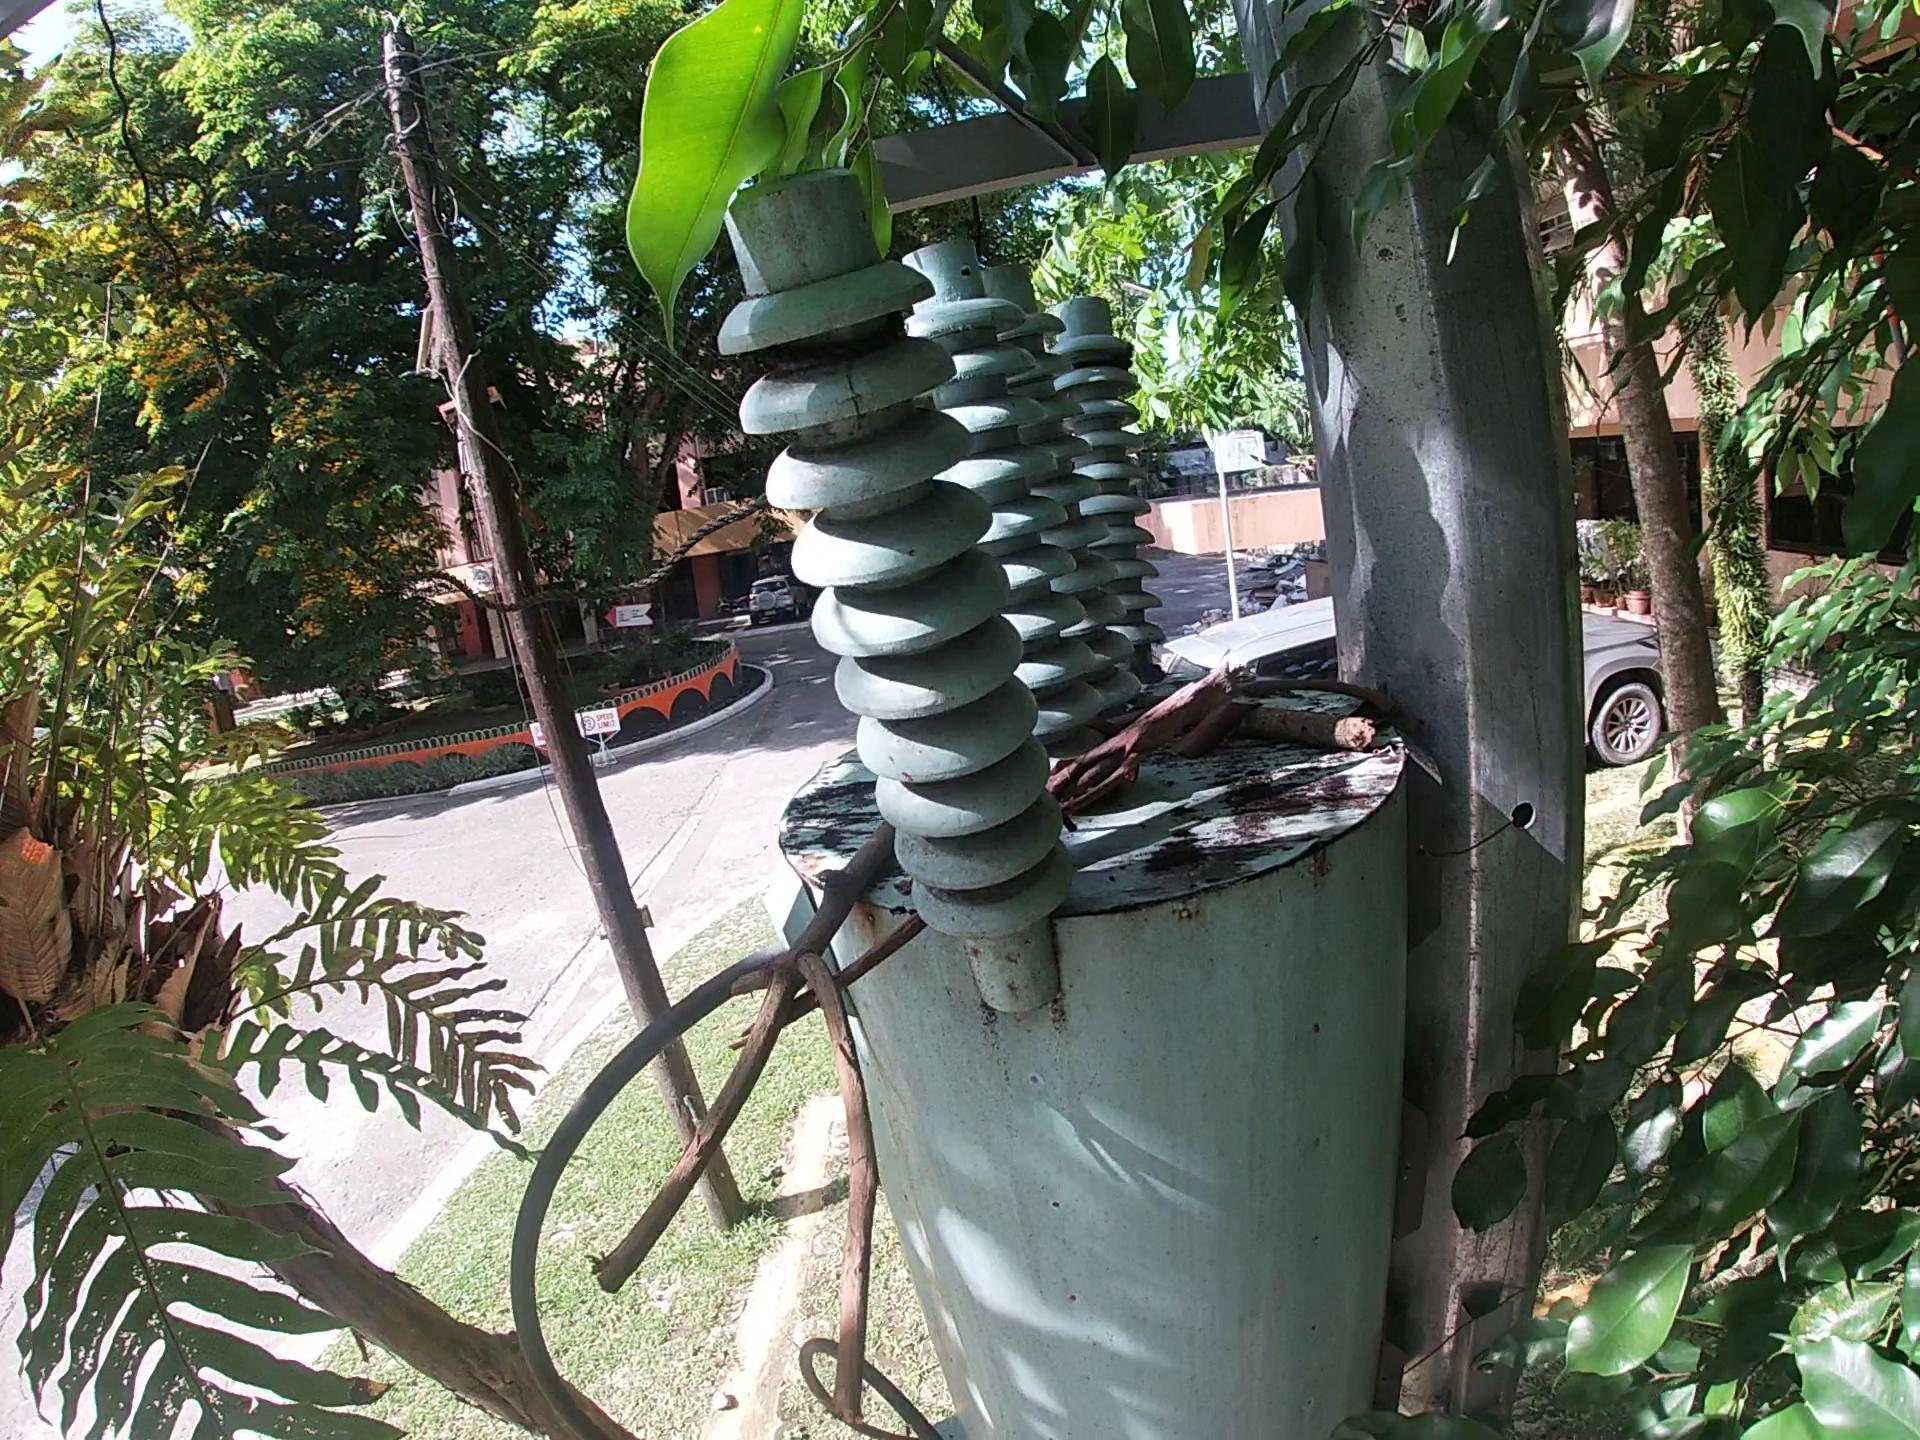leaf: (1170, 700, 1262, 762), (1346, 679, 1394, 728)
tree branch: (581, 808, 906, 1435), (1034, 658, 1246, 821), (729, 905, 937, 1054), (1234, 670, 1432, 740), (1237, 703, 1376, 753)
